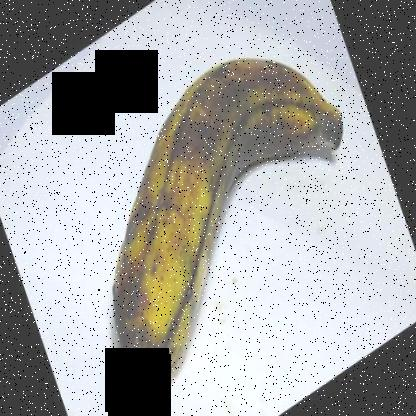overripe: (101, 51, 352, 400)
